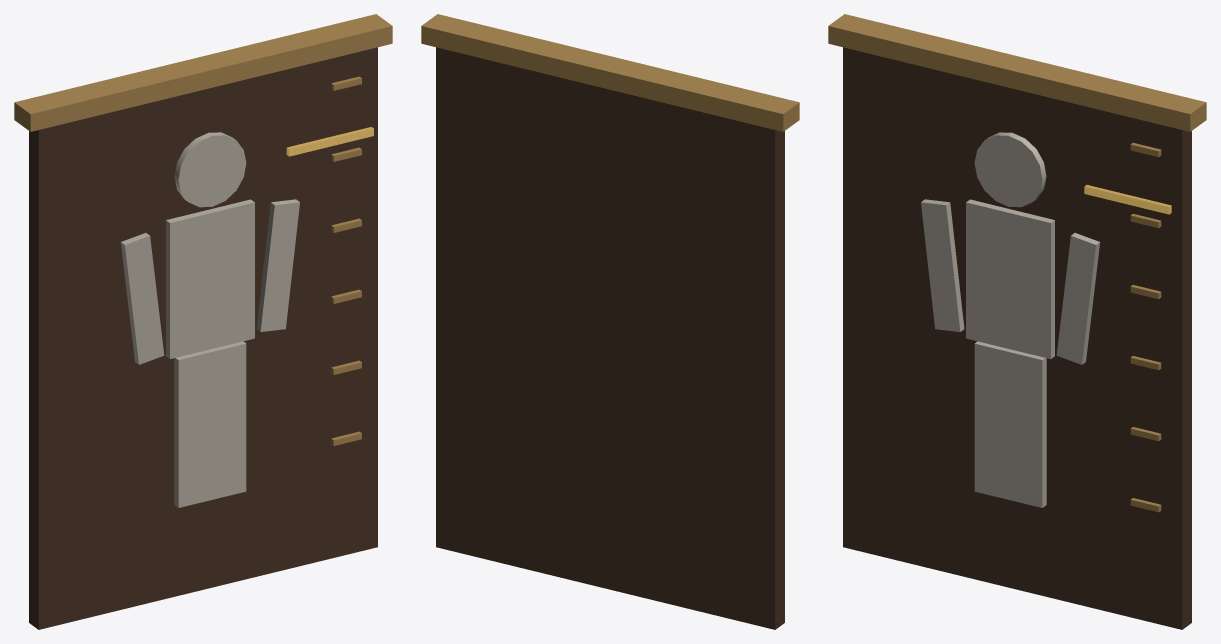
Rendered from hp_room_rm_museum_body_display.glb.
The picture shows the model from 3 angles, left to right: view 1: azimuth 30°, elevation 25°; view 2: azimuth 150°, elevation 25°; view 3: azimuth 330°, elevation 25°; orthographic projection.
Parts seen in each view (by area): view 1: display_board, board_frame, silhouette_torso, silhouette_legs, silhouette_head, silhouette_arm_r, silhouette_arm_l, spec_highlight; view 2: display_board, board_frame; view 3: display_board, board_frame, silhouette_torso, silhouette_legs, silhouette_head, silhouette_arm_l, silhouette_arm_r, spec_highlight.
Boxes of the visible parts, box(x1,y1,x2,y2) form: display_board: box(29, 47, 377, 629); board_frame: box(14, 14, 392, 131); silhouette_torso: box(166, 199, 254, 358); silhouette_legs: box(174, 341, 246, 507); silhouette_head: box(174, 132, 246, 207); silhouette_arm_r: box(256, 199, 299, 331); silhouette_arm_l: box(120, 233, 164, 364); spec_highlight: box(286, 127, 373, 156); display_board: box(436, 47, 784, 629); board_frame: box(421, 14, 799, 131); display_board: box(843, 47, 1191, 629); board_frame: box(828, 14, 1206, 131); silhouette_torso: box(966, 199, 1054, 358); silhouette_legs: box(974, 341, 1046, 507); silhouette_head: box(974, 132, 1046, 207); silhouette_arm_l: box(921, 199, 964, 331); silhouette_arm_r: box(1056, 233, 1100, 364); spec_highlight: box(1084, 185, 1171, 214).
Size of the model in its own units: 1.28 by 1.76 by 0.1075.
